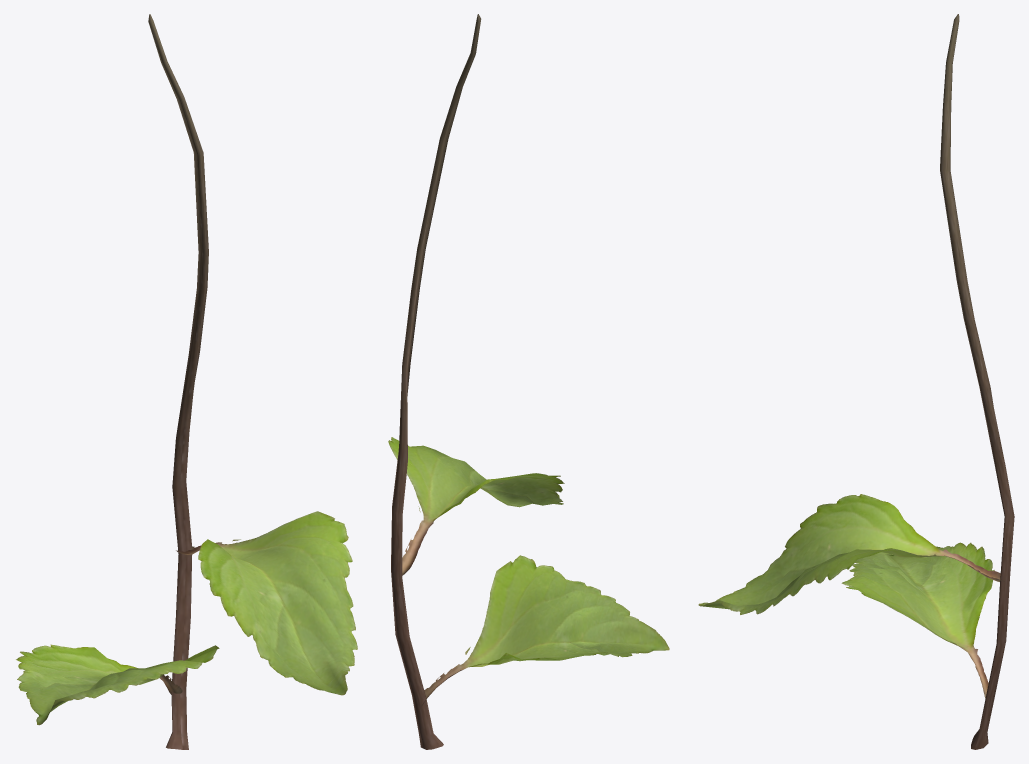
Rendered from Herb Shrub A.glb.
3 renders of one model, left to right at view 1: azimuth 30°, elevation 25°; view 2: azimuth 150°, elevation 25°; view 3: azimuth 270°, elevation 25°, orthographic. The views are drawn at different scales.
Visible parts, largest first — view 1: Herb Shrub A; view 2: Herb Shrub A; view 3: Herb Shrub A.
Part boxes in pixels (<box>): Herb Shrub A: <box>16,14,357,749</box>; Herb Shrub A: <box>388,14,669,749</box>; Herb Shrub A: <box>698,14,1014,749</box>.
Bounding box in the file's own units: 0.3713 × 0.9 × 0.3613.
1 material, 1 textured.
